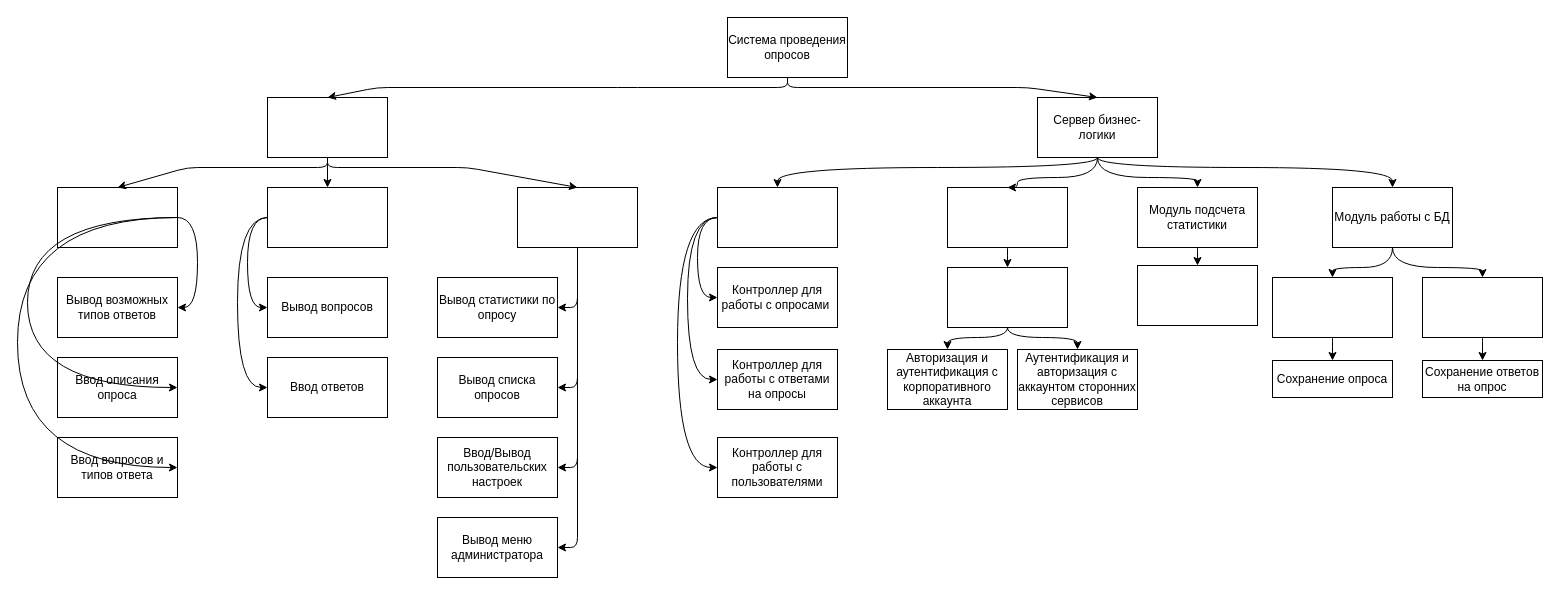
This 1560x595 diagram has some shape labels left out. The shapes that lost their labels are listed below. From the top down, each one's centre as x and y in pixels, then its label:
At (327,127): "Клиент (пользовательский интерфейс)".
At (117,217): "Контроллер для визуального редактора опросов".
At (327,217): "Модуль прохождения опроса".
At (577,217): "Модуль личный кабинет".
At (777,217): "Модуль взаимодействия с клиентом".
At (1007,217): "Модуль работы с пользователями".
At (1007,297): "Сервис аутентификации и авторизации".
At (1197,295): "Сервис подсчета статистики".
At (1332,307): "Сервис для работы с опросами".
At (1482,307): "Сервис для работы с ответами".
